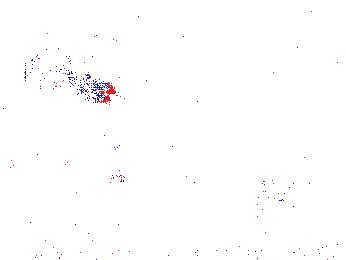flame jellyfish: (22, 42, 114, 104), (89, 117, 141, 184), (256, 160, 322, 208)
